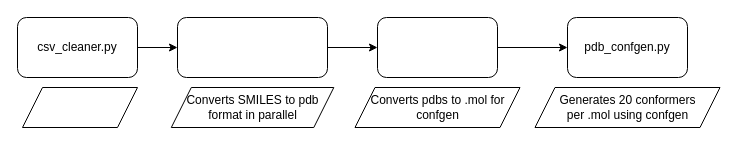
Some shapes in this 738 by 145 pixel diagram are drawn without their labels. Each missing label, with the centre of its shape:
"parallel_smile_to_pdb.py" belongs at (x=252, y=47).
"pdb_to_mol.py" belongs at (x=437, y=47).
"Removes bad SMILES in csv" belongs at (x=80, y=107).
